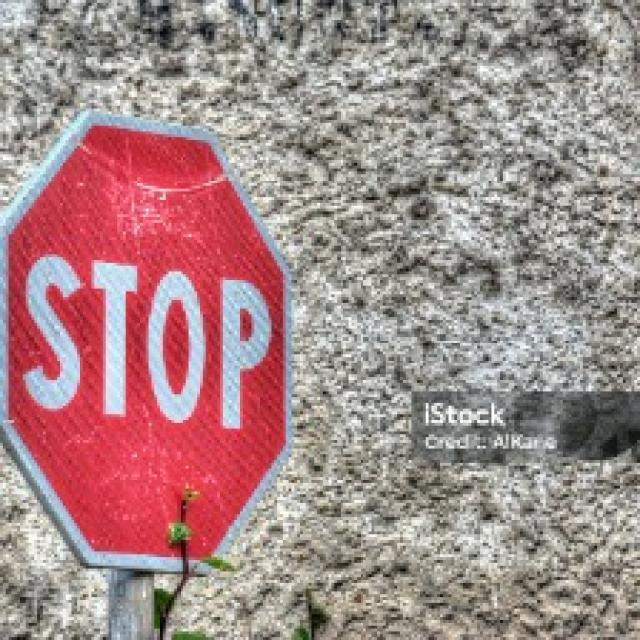stop: (0, 108, 294, 574)
